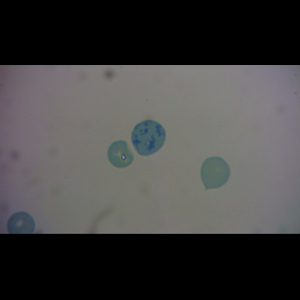aggregate reticulocyte: (131, 119, 167, 157)
erythrocyte: (199, 156, 232, 191), (107, 140, 135, 168)
